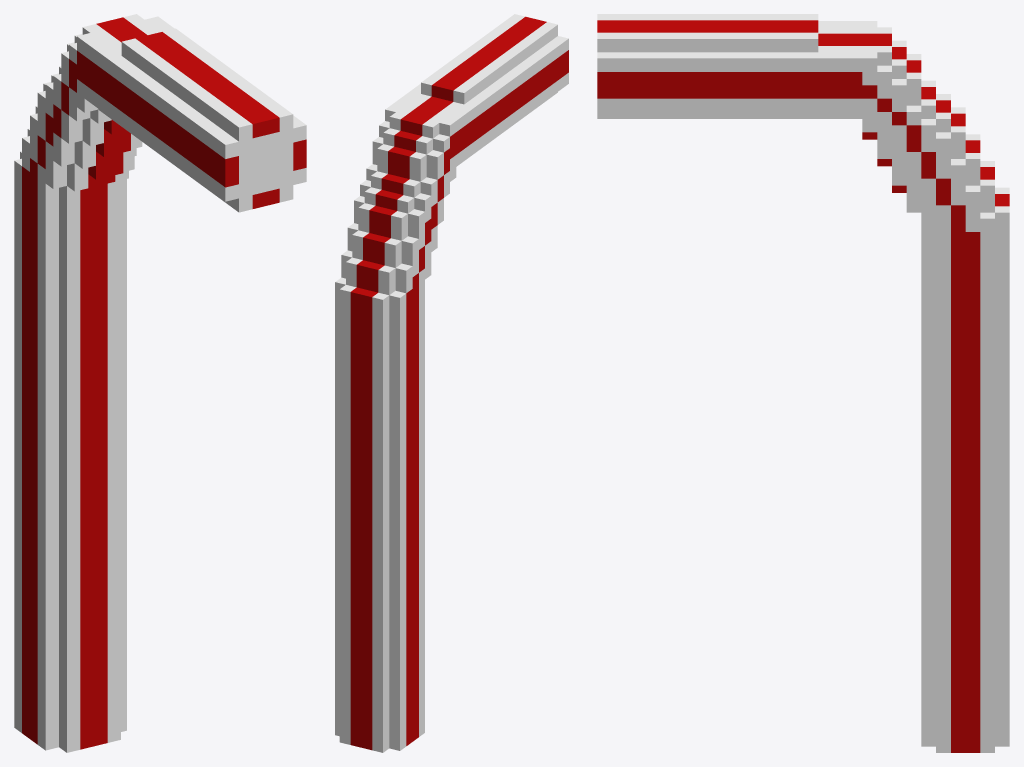
The model's file is straw.obj.
The picture shows the model from 3 angles, left to right: view 1: azimuth 30°, elevation 25°; view 2: azimuth 150°, elevation 25°; view 3: azimuth 270°, elevation 25°; orthographic projection. The views are drawn at different scales.
Size of the model in its own units: 0.6 by 5.3 by 2.8.
Materials: 1 (1 with a texture image).
